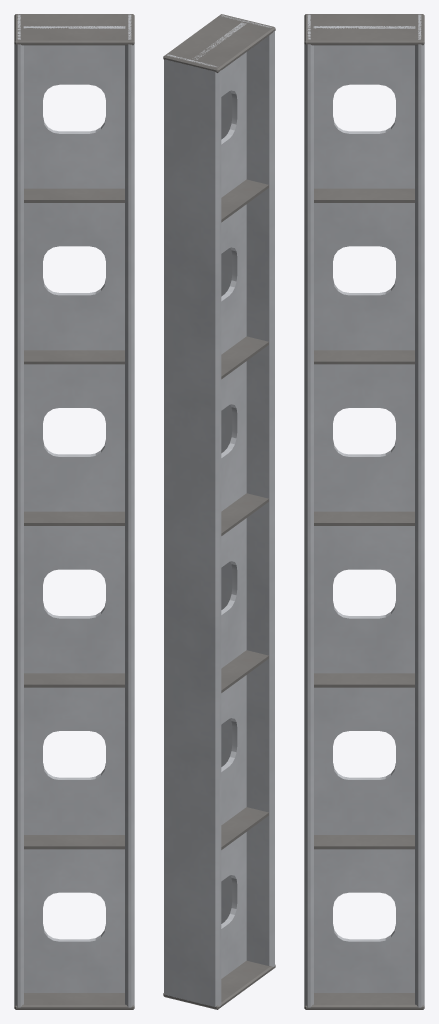
Rendered from ax_gear_11_i_beam_m.glb.
3 views of the same model, side by side, from view 1: azimuth 90°, elevation 25°; view 2: azimuth 150°, elevation 25°; view 3: azimuth 270°, elevation 25° (orthographic). The views are drawn at different scales.
Visible parts, largest first — view 1: web, flanges, stiffeners, end_plates; view 2: flanges, web, stiffeners, end_plates; view 3: web, flanges, stiffeners, end_plates.
Part boxes in pixels (x1,y1,x2,y2): web: (23,26,125,992); flanges: (14,14,134,1007); stiffeners: (24,188,124,849); end_plates: (14,14,134,1009); flanges: (164,15,274,1007); web: (192,22,246,978); stiffeners: (221,179,268,849); end_plates: (163,14,275,1009); web: (313,26,415,992); flanges: (304,14,424,1007); stiffeners: (314,188,414,849); end_plates: (304,14,424,1009).
Bounding box in the file's own units: 0.2475 × 4 × 0.45.
Materials: 2 (2 with a texture image).
